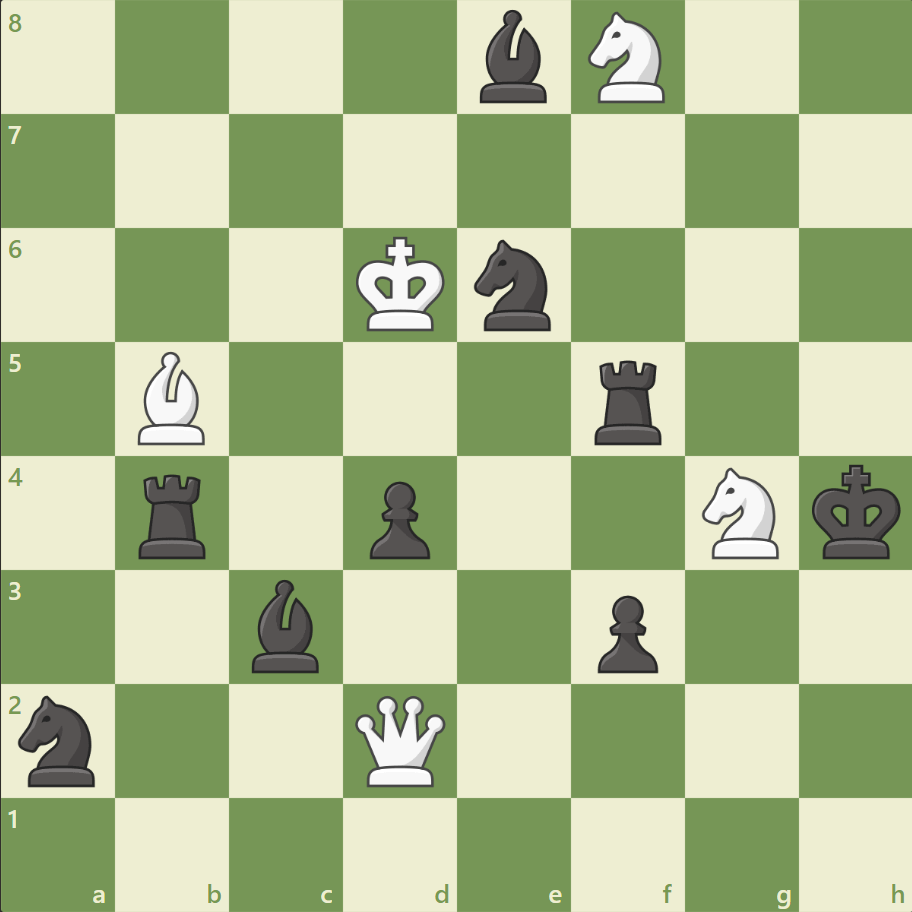B: (131, 347, 215, 449)
K: (351, 231, 451, 339)
N: (579, 7, 676, 110), (692, 461, 789, 564)
Q: (351, 690, 450, 789)
b: (471, 6, 555, 109), (244, 574, 328, 676)
k: (806, 458, 906, 566)
n: (465, 234, 562, 337), (11, 688, 108, 791)
p: (361, 473, 435, 564), (588, 586, 662, 677)
r: (587, 352, 670, 449), (133, 466, 215, 563)
